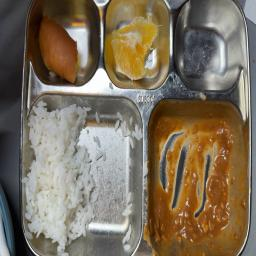25_bread: (38, 7, 94, 83)
50_orange: (108, 11, 162, 84)
50_rice: (24, 100, 140, 250)
empty: (149, 104, 238, 247), (177, 10, 237, 86)
